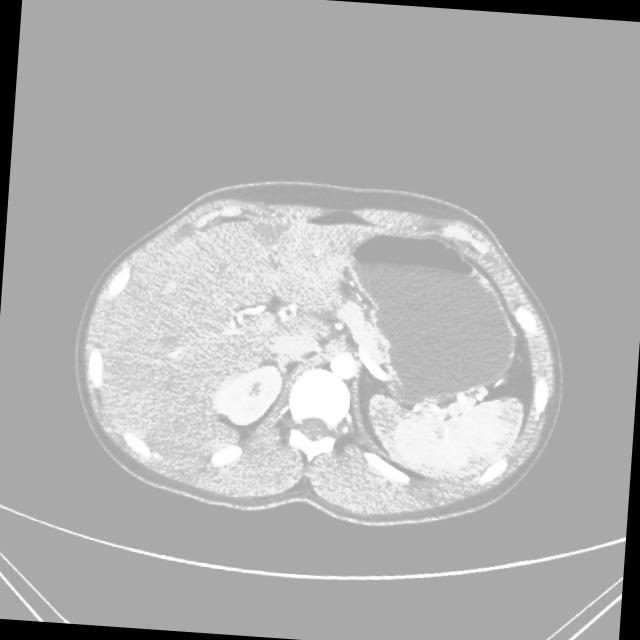NORMAL: (27, 129, 603, 552)
